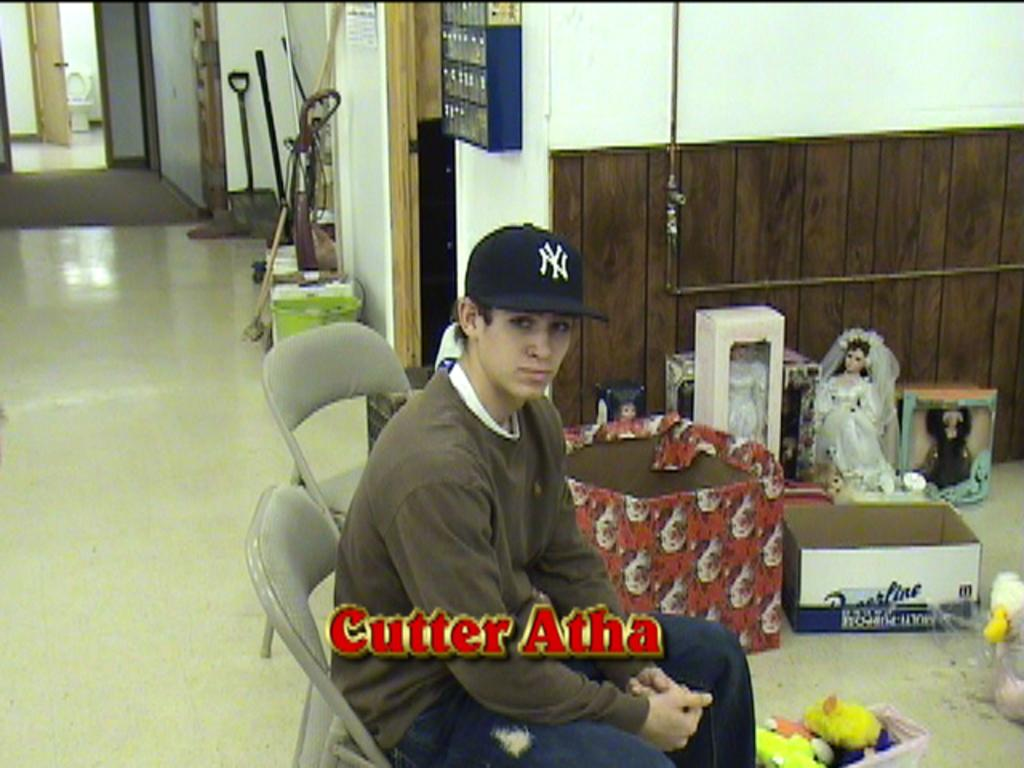Hat: (466, 220, 606, 326)
